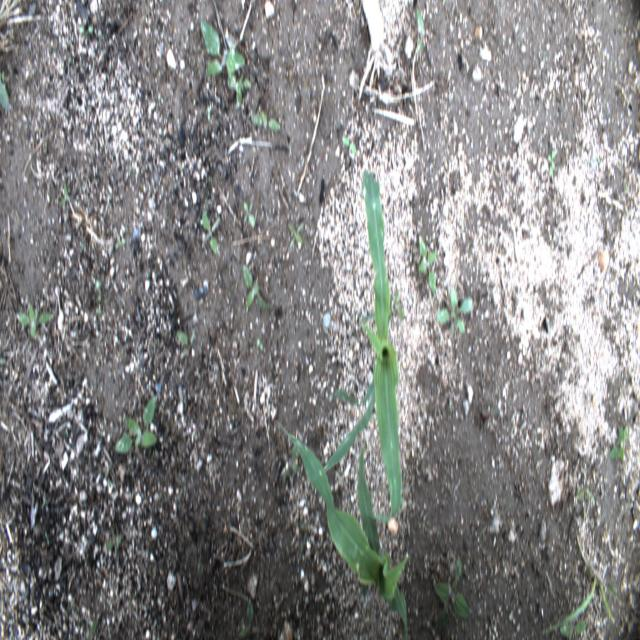crop: (318, 167, 405, 528), (279, 422, 409, 632)
weed: (540, 560, 612, 640), (432, 554, 470, 635), (200, 18, 246, 78), (115, 395, 157, 457), (440, 293, 476, 336), (242, 264, 272, 310), (18, 302, 53, 341), (417, 235, 438, 296), (226, 65, 254, 109), (202, 212, 220, 262), (608, 423, 628, 464), (255, 107, 280, 134), (0, 68, 13, 116), (416, 6, 426, 66), (105, 529, 125, 552), (78, 19, 97, 38), (288, 222, 303, 245), (546, 146, 556, 180), (95, 281, 102, 325), (242, 199, 252, 226), (343, 135, 357, 154), (58, 182, 68, 208), (176, 328, 188, 348)
